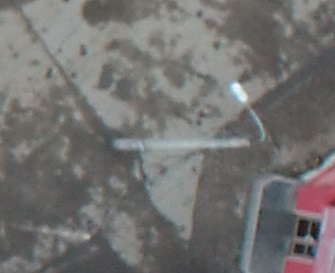opora: (108, 82, 267, 151)
